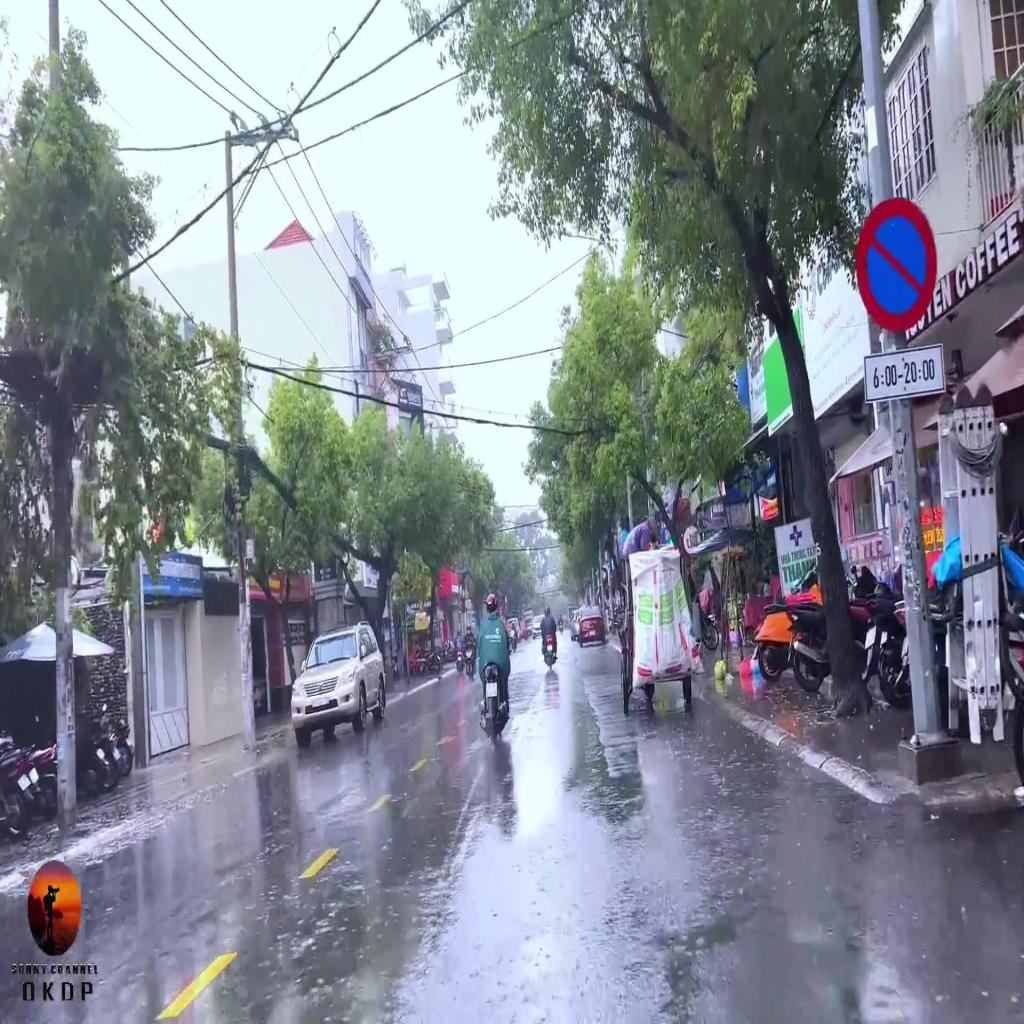cam_do_xe: (854, 195, 938, 336)
khac: (864, 344, 944, 399)
